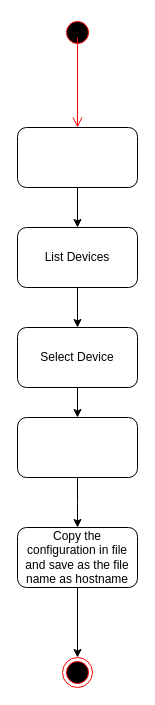
This 155x705 diagram has some shape labels left out. The box of each missing label's shape, as (x1, y1, x2, y2) in pixels:
Choose Running config/Startup Config: (16, 416, 138, 478)
Export Devices Configuration: (16, 126, 138, 188)
